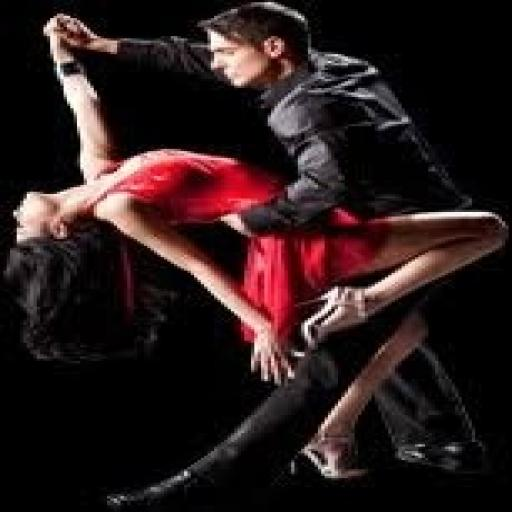dancing: (24, 2, 508, 505)
